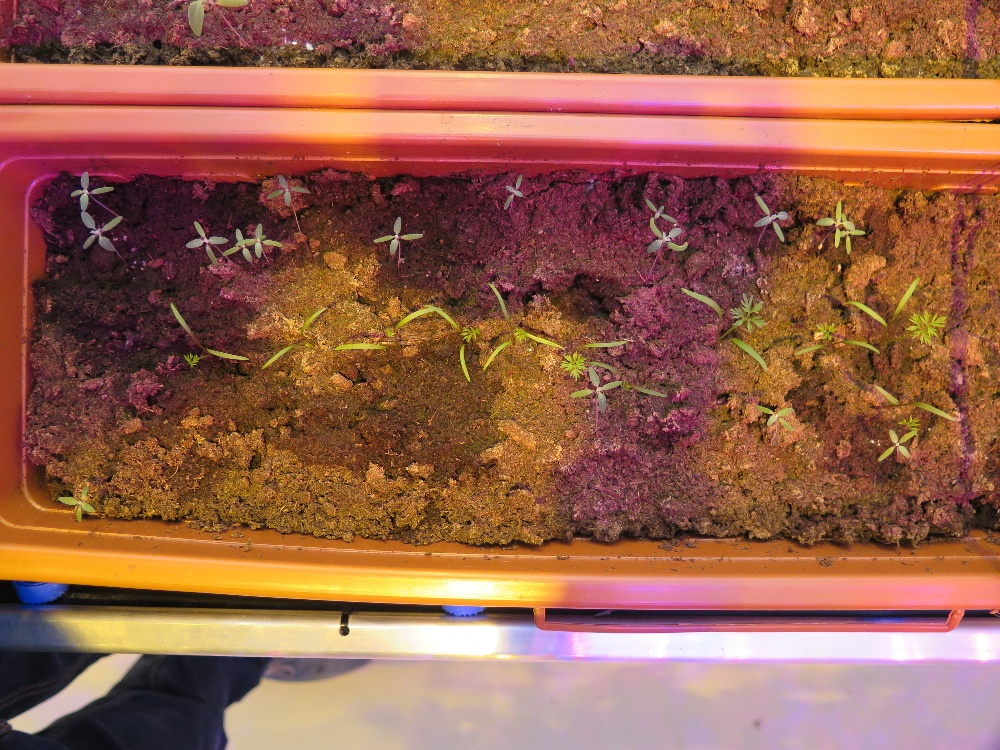weed: (669, 275, 777, 382), (478, 266, 563, 387), (151, 300, 253, 379), (854, 272, 939, 359), (256, 292, 332, 377), (323, 301, 441, 353), (432, 301, 488, 383), (870, 383, 965, 427), (818, 198, 872, 254), (790, 320, 849, 358), (372, 214, 425, 256), (68, 169, 114, 212), (79, 211, 123, 253), (753, 194, 788, 243), (578, 372, 621, 411), (56, 483, 98, 522), (265, 173, 311, 207), (877, 428, 918, 463), (752, 403, 796, 434), (503, 173, 524, 211), (563, 348, 584, 376)
